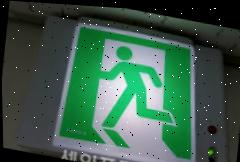emergency_exit: (51, 21, 195, 161)
